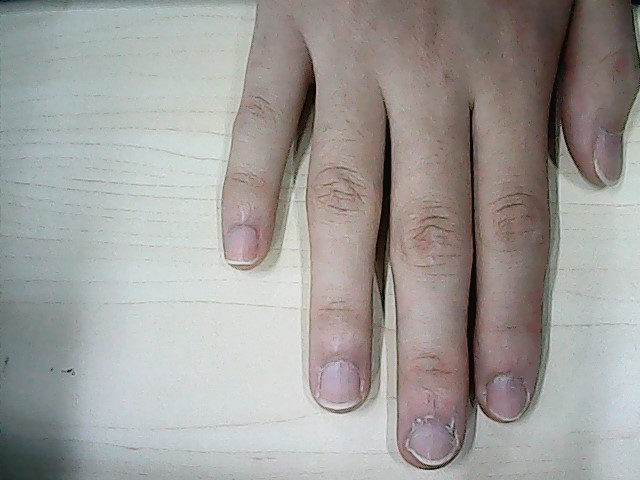nail: (320, 360, 361, 410), (411, 425, 454, 466), (488, 379, 526, 423), (598, 131, 623, 187), (226, 227, 257, 264)
